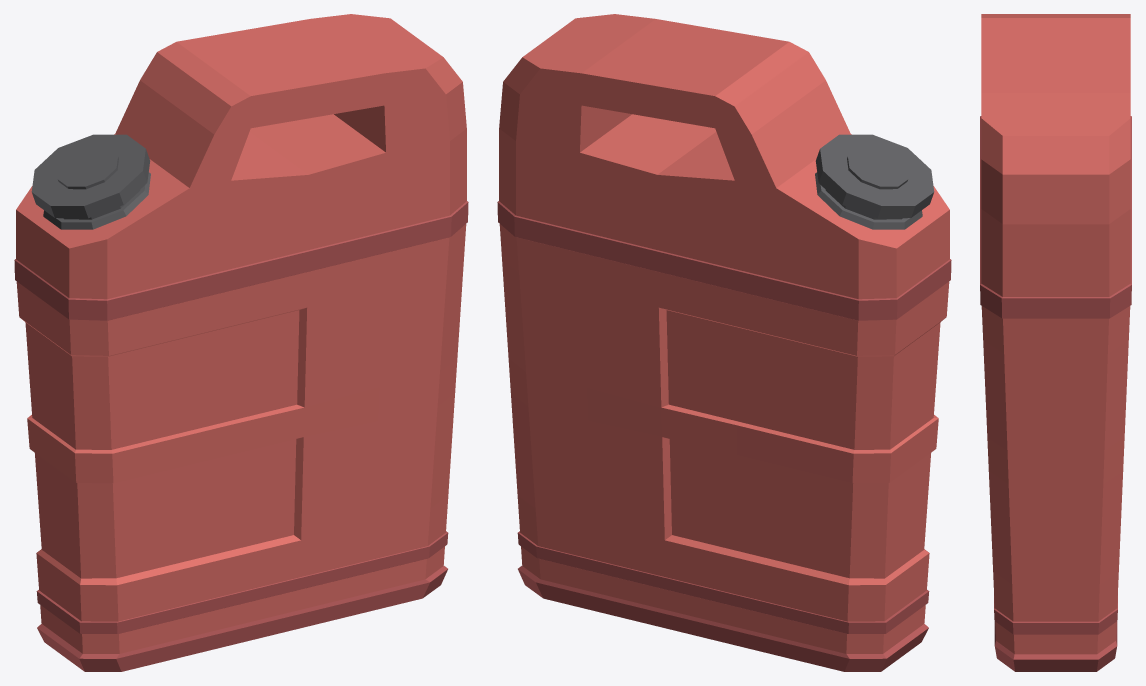
Rendered from gascan.glb.
3 renders of one model, left to right at view 1: azimuth 30°, elevation 25°; view 2: azimuth 150°, elevation 25°; view 3: azimuth 270°, elevation 25°, orthographic.
Parts seen in each view (by area): view 1: GasCan; view 2: GasCan; view 3: GasCan.
Part boxes in pixels (left/top/right/bottom): GasCan: left=14, top=14, right=468, bottom=671; GasCan: left=497, top=14, right=951, bottom=671; GasCan: left=980, top=14, right=1131, bottom=671.
Size of the model in its own units: 1.88 by 2.47 by 0.6153.
